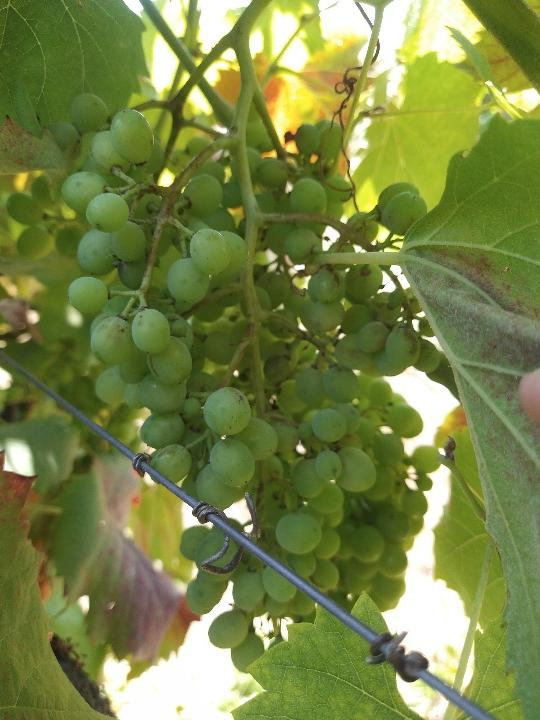grape: (4, 91, 441, 674)
